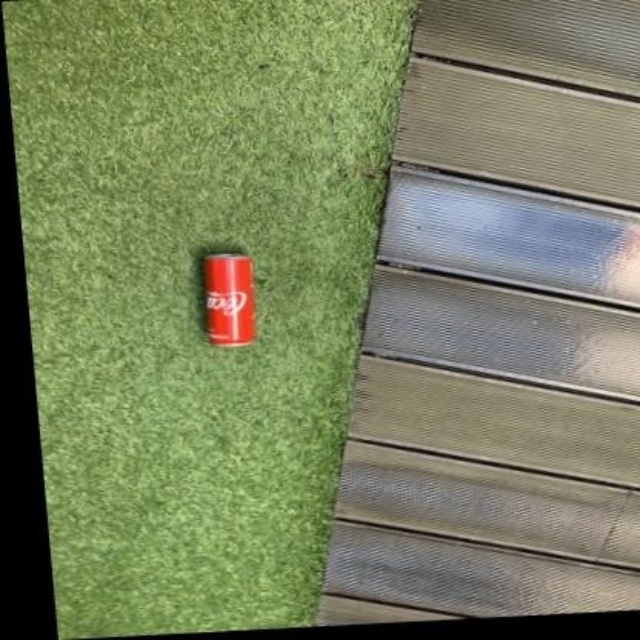trash: (203, 254, 254, 345)
